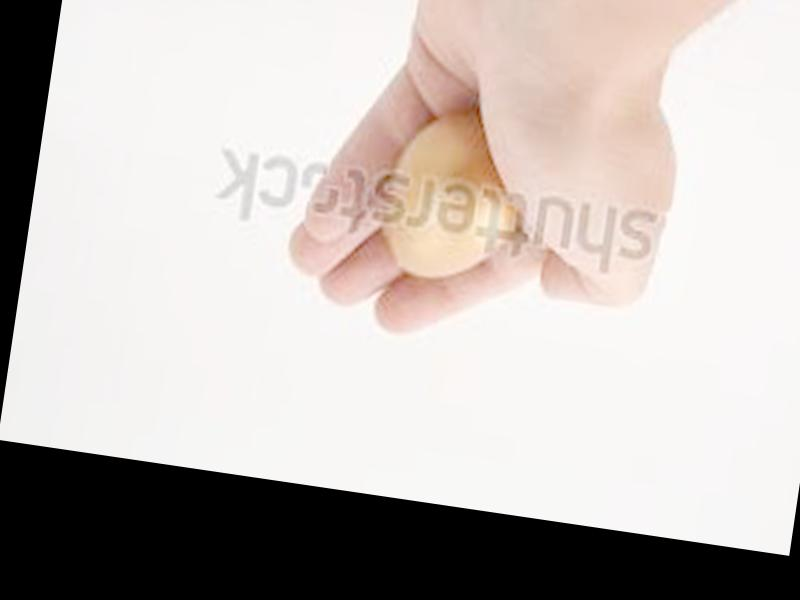Eggs: (378, 108, 525, 287)
